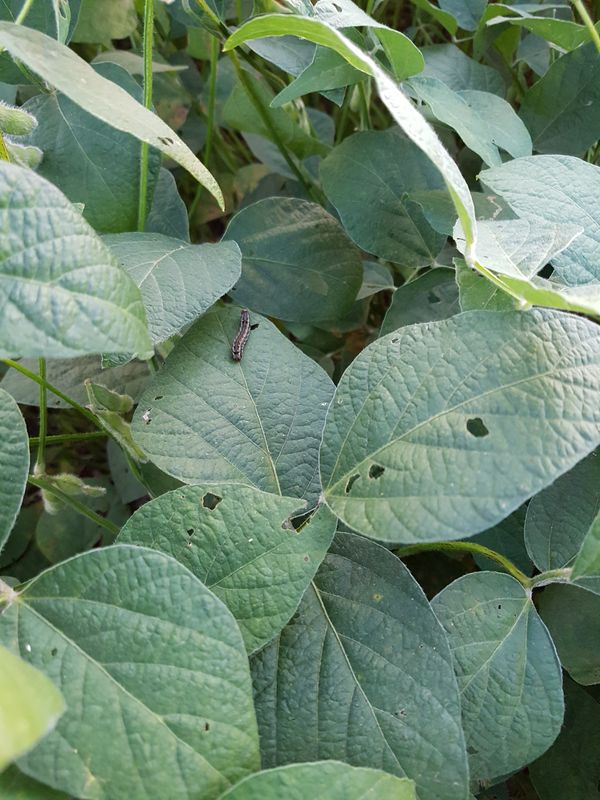Spodoptera_albula: (217, 302, 266, 368)
